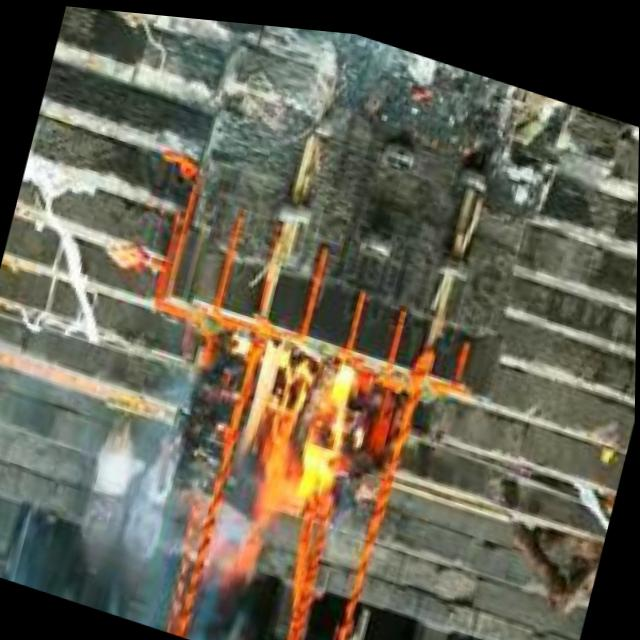Fire: (219, 325, 374, 531)
